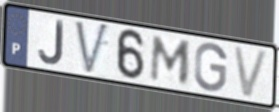6: (115, 28, 147, 83)
G: (193, 41, 229, 94)
J: (37, 18, 65, 67)
M: (147, 34, 193, 87)
V: (231, 43, 272, 101), (73, 19, 111, 78)
